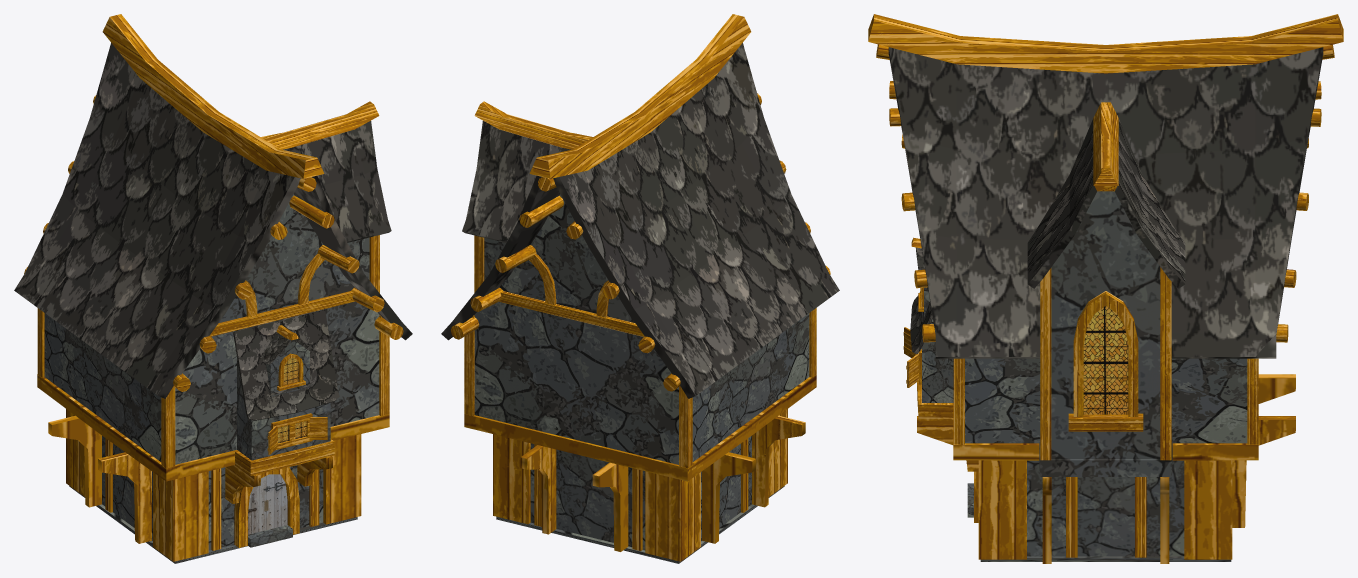
Rendered from Casa_do_ferreiro.fbx.
3 views of the same model, side by side, from view 1: azimuth 30°, elevation 25°; view 2: azimuth 150°, elevation 25°; view 3: azimuth 270°, elevation 25° (orthographic). The views are drawn at different scales.
Visible parts, largest first — view 1: Casa_do_ferreiro, Cube; view 2: Casa_do_ferreiro, Cube; view 3: Casa_do_ferreiro, Cube.
Boxes of the visible parts, x1=… form: Casa_do_ferreiro: x1=14, y1=14, x2=412, y2=561; Cube: x1=69, y1=486, x2=357, y2=563; Casa_do_ferreiro: x1=441, y1=14, x2=839, y2=561; Cube: x1=496, y1=486, x2=784, y2=563; Casa_do_ferreiro: x1=868, y1=14, x2=1343, y2=563; Cube: x1=980, y1=556, x2=1231, y2=561.
Size of the model in its own units: 430 by 571 by 500.
